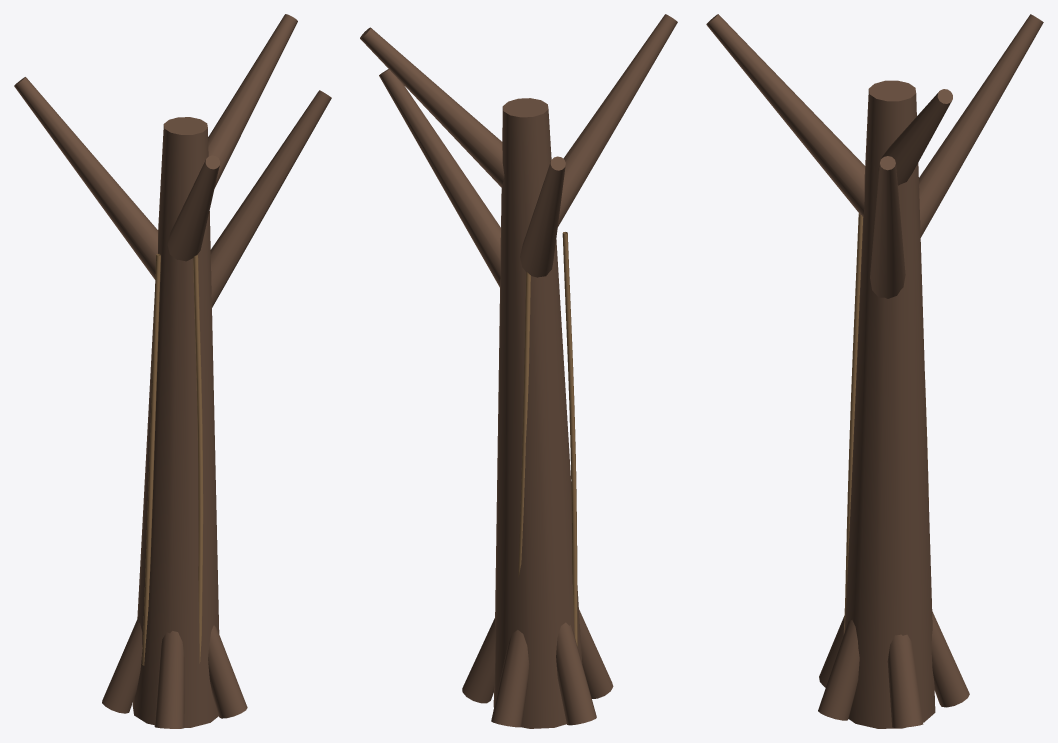
The model's file is tree-trunk.glb.
3 views of the same model, side by side, from view 1: azimuth 30°, elevation 25°; view 2: azimuth 150°, elevation 25°; view 3: azimuth 270°, elevation 25° (orthographic). The views are drawn at different scales.
Visible parts, largest first — view 1: tree-trunk_timber, tree-trunk_wood; view 2: tree-trunk_timber, tree-trunk_wood; view 3: tree-trunk_timber, tree-trunk_wood.
Boxes of the visible parts, x1=… form: tree-trunk_timber: x1=14, y1=14, x2=331, y2=728; tree-trunk_wood: x1=142, y1=254, x2=203, y2=665; tree-trunk_timber: x1=360, y1=14, x2=677, y2=728; tree-trunk_wood: x1=518, y1=232, x2=577, y2=646; tree-trunk_timber: x1=706, y1=14, x2=1043, y2=728; tree-trunk_wood: x1=844, y1=213, x2=928, y2=632.
Size of the model in its own units: 1.33 by 3.31 by 1.46.
